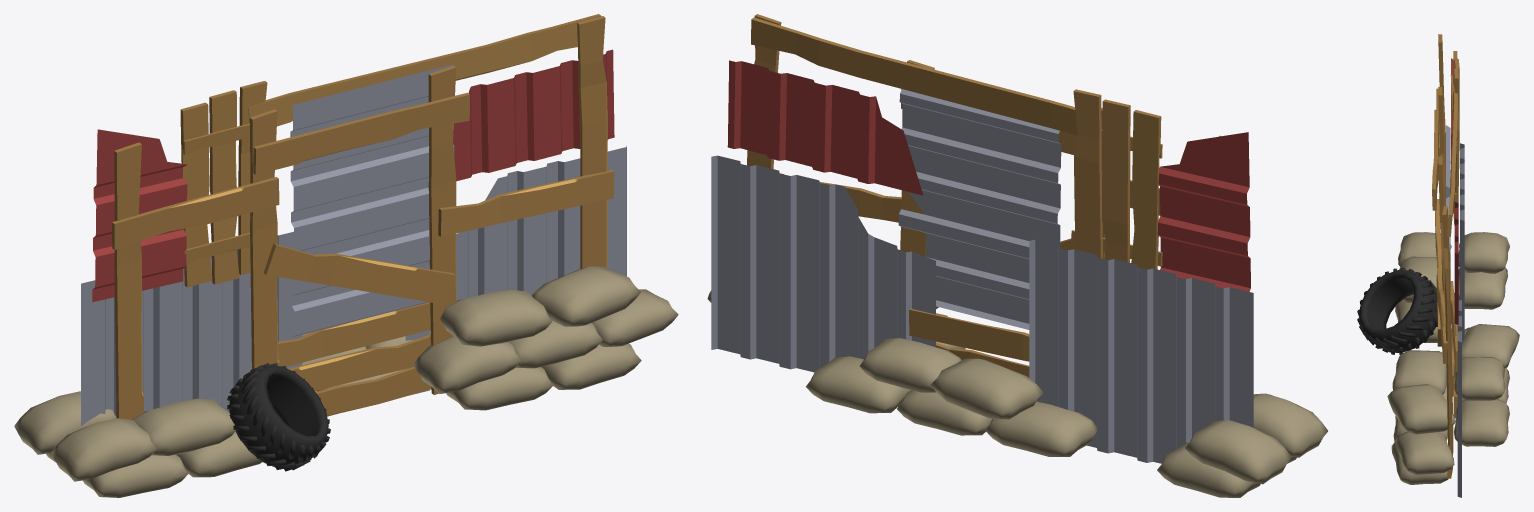
The model's file is barrier.glb.
The picture shows the model from 3 angles, left to right: view 1: azimuth 30°, elevation 25°; view 2: azimuth 150°, elevation 25°; view 3: azimuth 270°, elevation 25°; orthographic projection. The views are drawn at different scales.
Visible parts, largest first — view 1: Barrier_Trash; view 2: Barrier_Trash; view 3: Barrier_Trash.
Boxes of the visible parts, bbox=[...] form: Barrier_Trash: bbox=[14, 14, 678, 497]; Barrier_Trash: bbox=[707, 14, 1327, 497]; Barrier_Trash: bbox=[1357, 34, 1519, 497].
Bounding box in the file's own units: 4.49 × 2.51 × 1.31.
